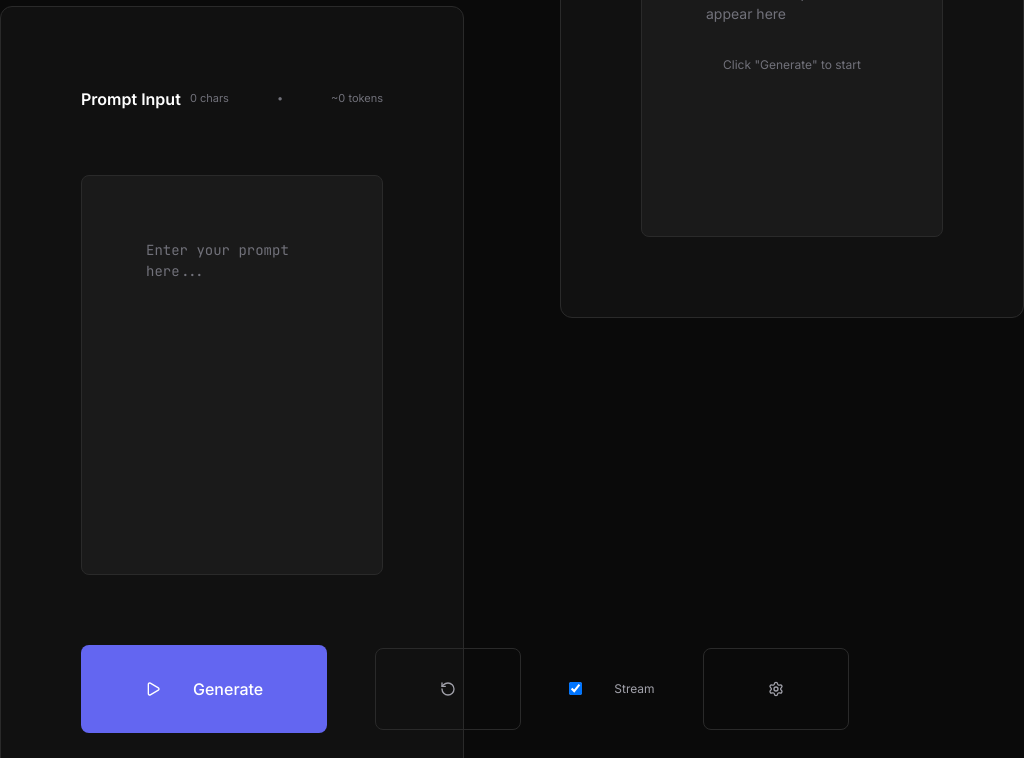
Test: InferencePlayground › updates character and token count
(page scrolled)
Type "Hello World" into the text box with placeholder "Enter your prompt here..." at (232, 375), box [81,175,383,575]
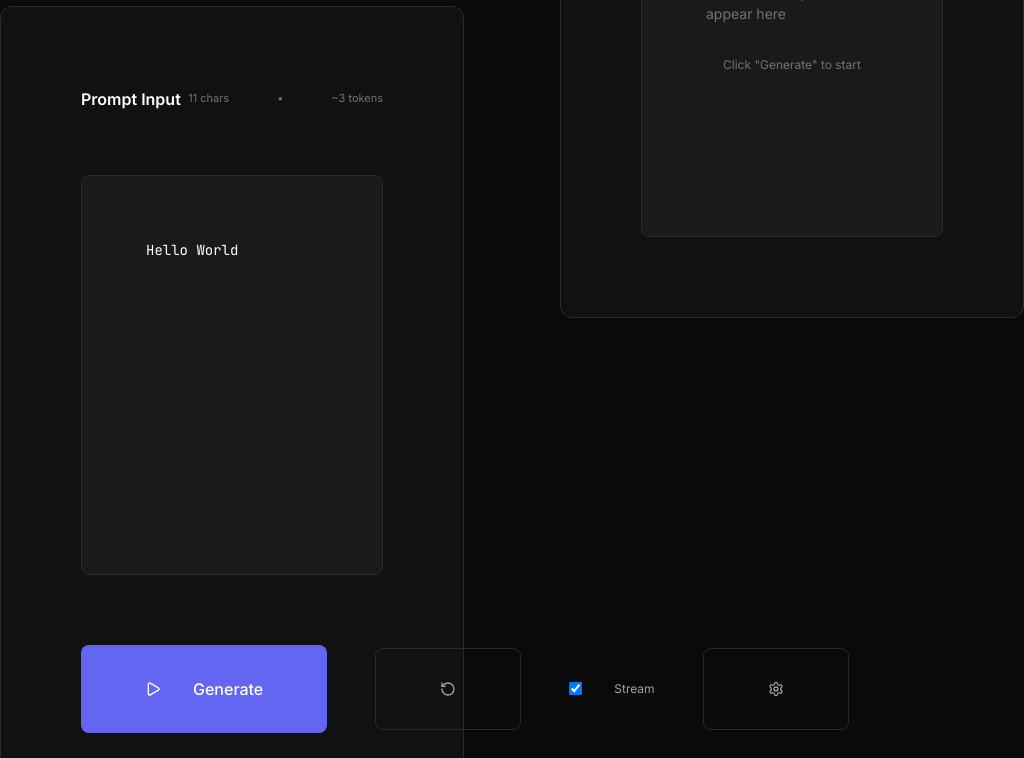
Expected: the text "11 chars" is shown, [188,90,229,107]
Expected: the text "~3 tokens" is shown, [331,90,383,107]
